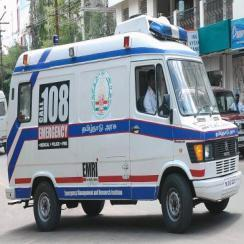Ambulance: (35, 80, 71, 126)
